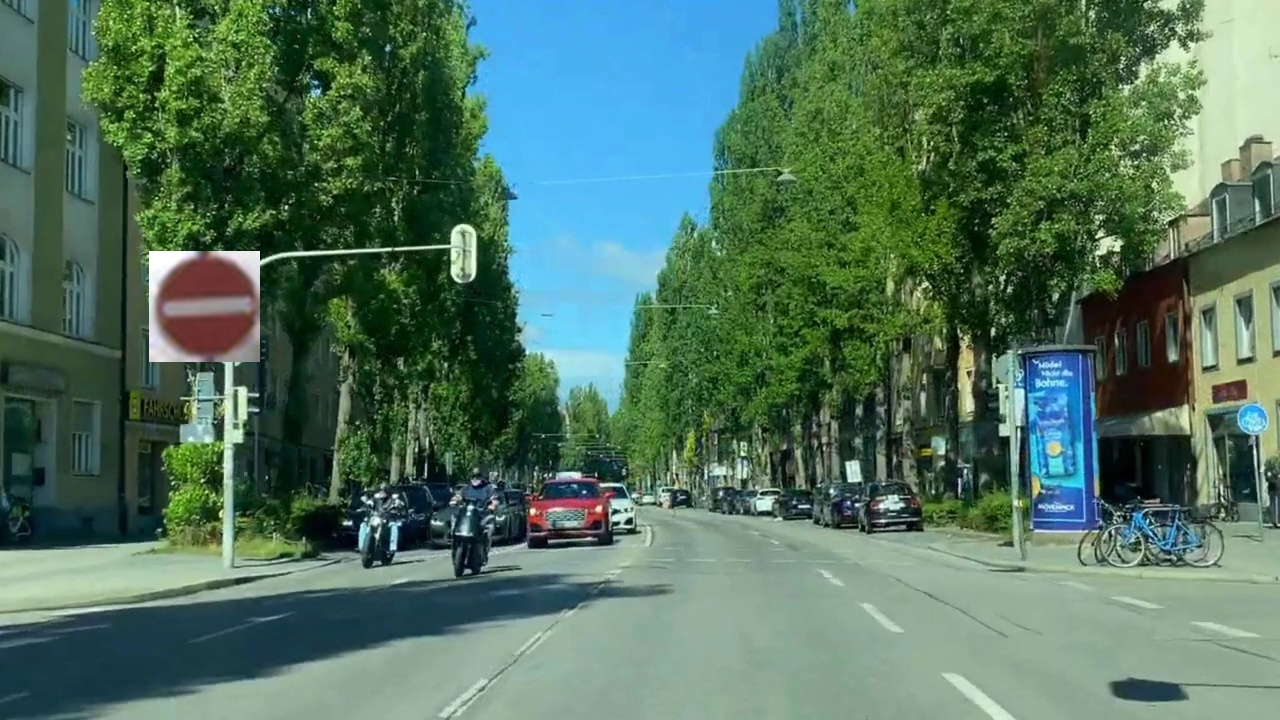No entry: (149, 251, 260, 362)
